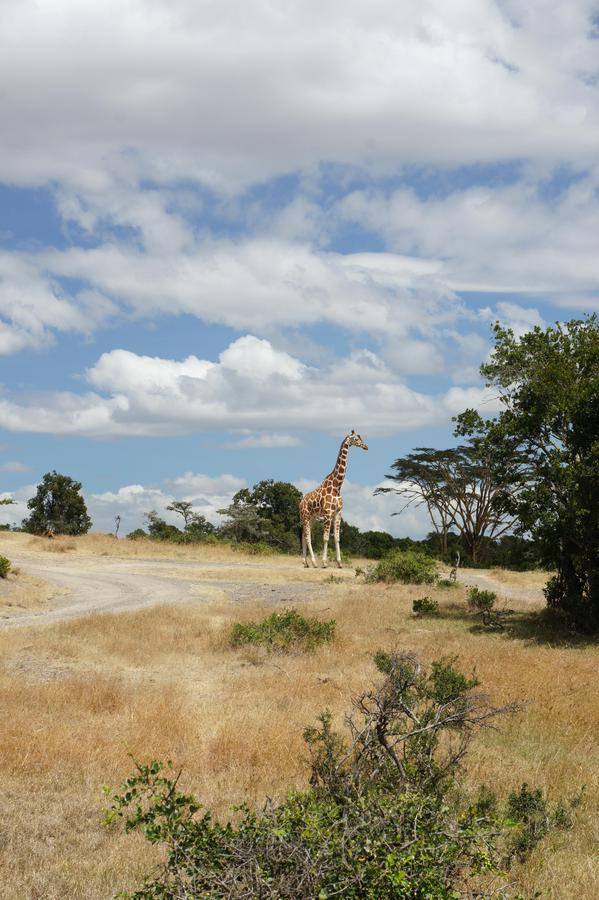giraffe: (284, 426, 377, 572)
